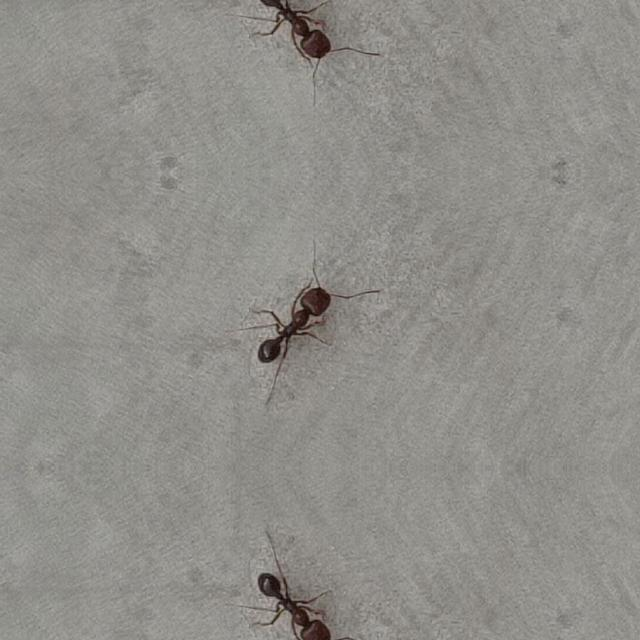Messor: (248, 258, 360, 372), (247, 0, 360, 86), (247, 563, 360, 640)
